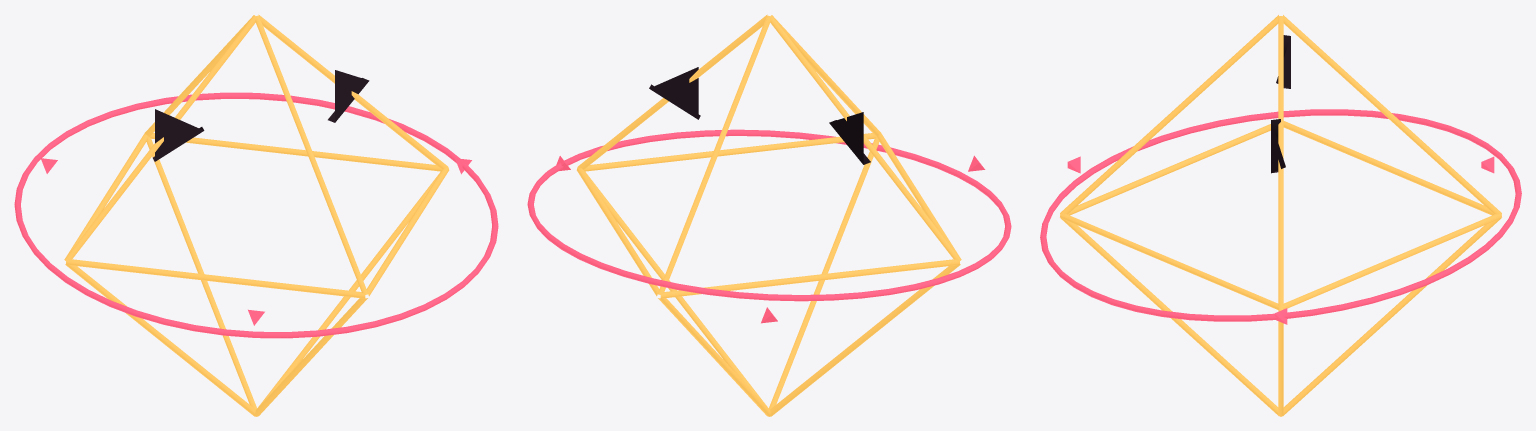
The model's file is avatar-brasa-kit-arquiteto.glb.
3 views of the same model, side by side, from view 1: azimuth 30°, elevation 25°; view 2: azimuth 150°, elevation 25°; view 3: azimuth 270°, elevation 25° (orthographic).
Parts seen in each view (by area): view 1: kit_brasa_arquiteto_matrixRing, kit_brasa_arquiteto_exo06, kit_brasa_arquiteto_exo08, kit_brasa_arquiteto_exo04, kit_brasa_arquiteto_exo03, kit_brasa_arquiteto_exo10, kit_brasa_arquiteto_exo05, kit_brasa_arquiteto_exo00, kit_brasa_arquiteto_exo01, kit_brasa_arquiteto_pauldronR, kit_brasa_arquiteto_exo09, kit_brasa_arquiteto_exo02 (+3 smaller); view 2: kit_brasa_arquiteto_matrixRing, kit_brasa_arquiteto_exo07, kit_brasa_arquiteto_exo11, kit_brasa_arquiteto_exo04, kit_brasa_arquiteto_exo02, kit_brasa_arquiteto_exo09, kit_brasa_arquiteto_exo05, kit_brasa_arquiteto_exo01, kit_brasa_arquiteto_exo00, kit_brasa_arquiteto_pauldronL, kit_brasa_arquiteto_exo10, kit_brasa_arquiteto_pauldronR (+3 smaller); view 3: kit_brasa_arquiteto_matrixRing, kit_brasa_arquiteto_exo08, kit_brasa_arquiteto_exo11, kit_brasa_arquiteto_exo09, kit_brasa_arquiteto_exo10, kit_brasa_arquiteto_exo00, kit_brasa_arquiteto_exo02, kit_brasa_arquiteto_exo03, kit_brasa_arquiteto_exo07, kit_brasa_arquiteto_exo06, kit_brasa_arquiteto_exo01, kit_brasa_arquiteto_pauldronL (+1 smaller).
Part boxes in pixels (<box>): kit_brasa_arquiteto_matrixRing: <box>14,92,498,338</box>; kit_brasa_arquiteto_exo06: <box>66,259,365,298</box>; kit_brasa_arquiteto_exo08: <box>255,15,367,294</box>; kit_brasa_arquiteto_exo04: <box>64,15,255,260</box>; kit_brasa_arquiteto_exo03: <box>149,133,441,171</box>; kit_brasa_arquiteto_exo10: <box>146,137,256,409</box>; kit_brasa_arquiteto_exo05: <box>65,264,255,416</box>; kit_brasa_arquiteto_exo00: <box>258,14,448,169</box>; kit_brasa_arquiteto_exo01: <box>258,172,440,407</box>; kit_brasa_arquiteto_pauldronR: <box>153,109,204,161</box>; kit_brasa_arquiteto_exo09: <box>255,298,367,416</box>; kit_brasa_arquiteto_exo02: <box>366,167,449,296</box>; kit_brasa_arquiteto_matrixRing: <box>527,129,1011,301</box>; kit_brasa_arquiteto_exo07: <box>660,259,959,298</box>; kit_brasa_arquiteto_exo11: <box>658,15,770,294</box>; kit_brasa_arquiteto_exo04: <box>770,15,961,260</box>; kit_brasa_arquiteto_exo02: <box>584,133,876,171</box>; kit_brasa_arquiteto_exo09: <box>769,137,879,409</box>; kit_brasa_arquiteto_exo05: <box>770,264,960,416</box>; kit_brasa_arquiteto_exo01: <box>585,172,767,407</box>; kit_brasa_arquiteto_exo00: <box>577,14,767,169</box>; kit_brasa_arquiteto_pauldronL: <box>649,67,700,119</box>; kit_brasa_arquiteto_exo10: <box>658,298,770,416</box>; kit_brasa_arquiteto_pauldronR: <box>829,112,870,164</box>; kit_brasa_arquiteto_matrixRing: <box>1040,109,1521,321</box>; kit_brasa_arquiteto_exo08: <box>1060,15,1279,214</box>; kit_brasa_arquiteto_exo11: <box>1282,15,1501,214</box>; kit_brasa_arquiteto_exo09: <box>1060,218,1279,416</box>; kit_brasa_arquiteto_exo10: <box>1282,218,1501,416</box>; kit_brasa_arquiteto_exo00: <box>1278,16,1283,307</box>; kit_brasa_arquiteto_exo02: <box>1060,214,1279,309</box>; kit_brasa_arquiteto_exo03: <box>1282,214,1501,309</box>; kit_brasa_arquiteto_exo07: <box>1283,121,1493,215</box>; kit_brasa_arquiteto_exo06: <box>1068,124,1270,215</box>; kit_brasa_arquiteto_exo01: <box>1278,310,1283,416</box>; kit_brasa_arquiteto_pauldronL: <box>1271,119,1285,173</box>.
Bounding box in the file's own units: 1.22 × 1.11 × 1.21.
